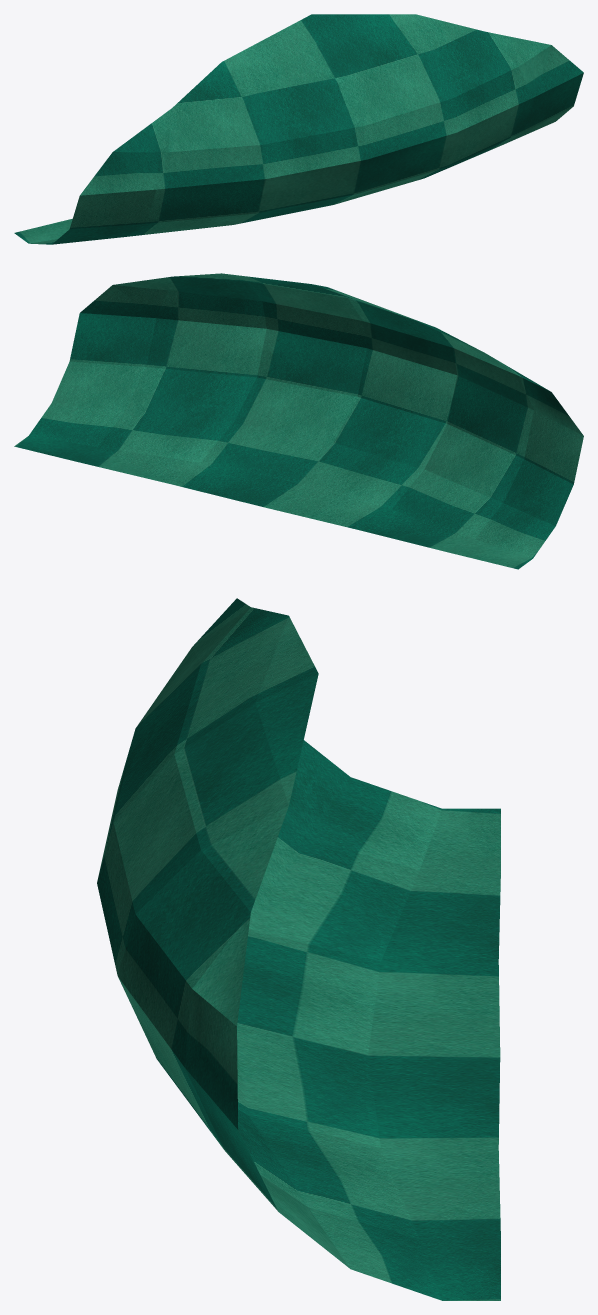
The model's file is Concave_Curve.gltf.
The picture shows the model from 3 angles, top to bottom: view 1: azimuth 30°, elevation 25°; view 2: azimuth 150°, elevation 25°; view 3: azimuth 270°, elevation 25°; orthographic projection. The views are drawn at different scales.
Visible parts, largest first — view 1: Concave_Curve_glb; view 2: Concave_Curve_glb; view 3: Concave_Curve_glb.
Boxes of the visible parts, left/top/right/bottom form: Concave_Curve_glb: left=14, top=14, right=583, bottom=244; Concave_Curve_glb: left=14, top=273, right=583, bottom=569; Concave_Curve_glb: left=97, top=598, right=500, bottom=1300.
Size of what is drawn, in the model's own units: 7.52 by 2.71 by 2.61.
1 material, 1 textured.
